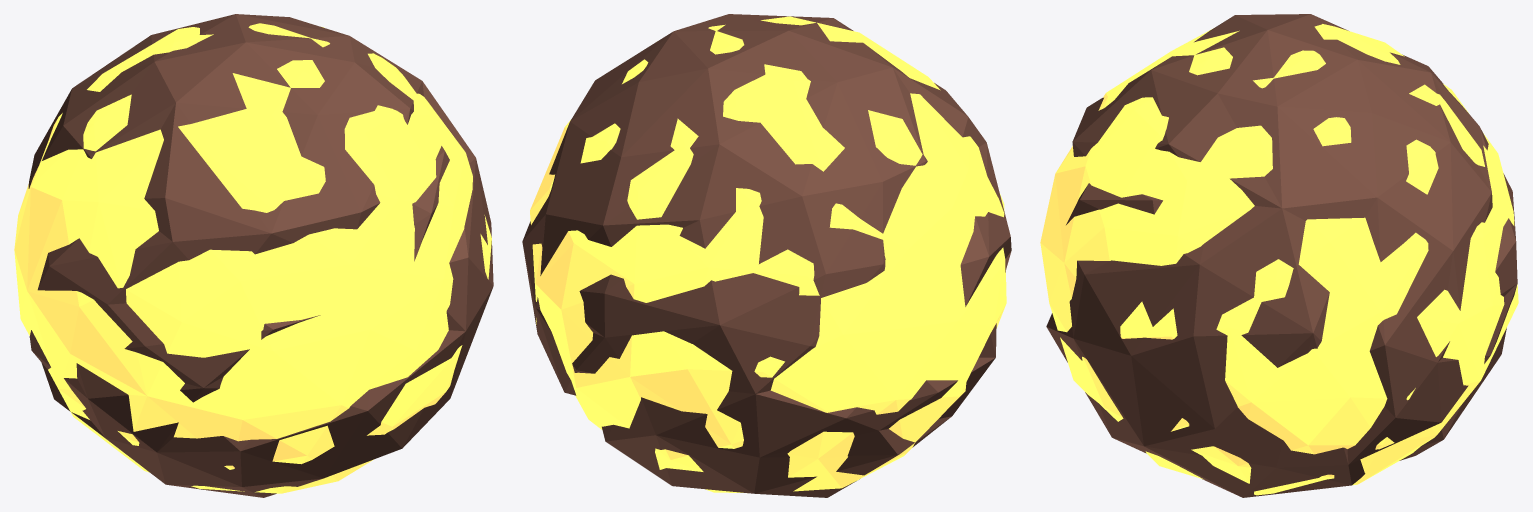
Rendered from Cancri_e.fbx.
The picture shows the model from 3 angles, left to right: view 1: azimuth 30°, elevation 25°; view 2: azimuth 150°, elevation 25°; view 3: azimuth 270°, elevation 25°; orthographic projection.
Parts seen in each view (by area): view 1: Cancri_e; view 2: Cancri_e; view 3: Cancri_e.
Part boxes in pixels (box(x1,y1,x2,y2)): Cancri_e: box(14, 14, 493, 497); Cancri_e: box(522, 14, 1011, 497); Cancri_e: box(1040, 14, 1518, 497).
Bounding box in the file's own units: 204 × 204 × 201.
